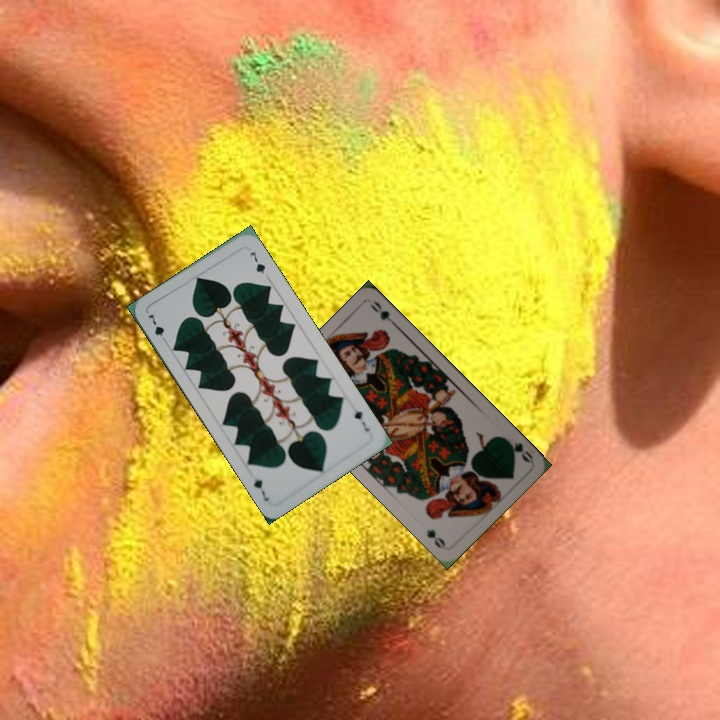G7: (144, 310, 170, 346), (349, 402, 372, 434)
GO: (500, 433, 535, 465)
